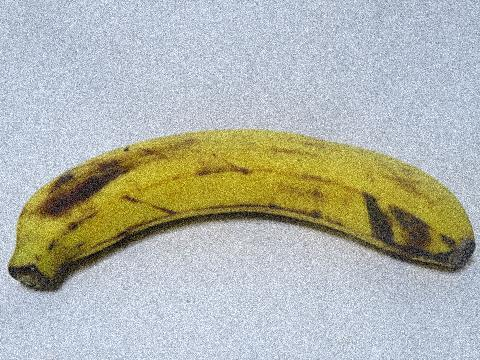overripe: (0, 118, 479, 310)
